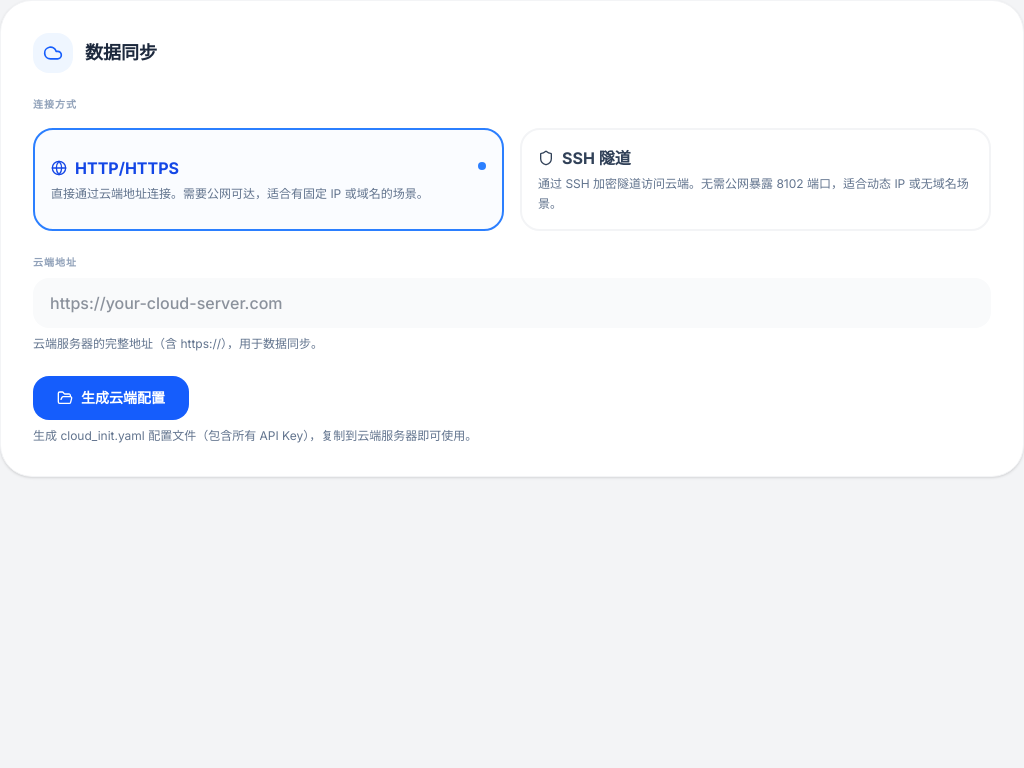
SyncConfigSection › Seam 2: 生成配置按钮 › should show loading state during generation
Click the button "生成云端配置" at (111, 398), box [33,376,189,420]
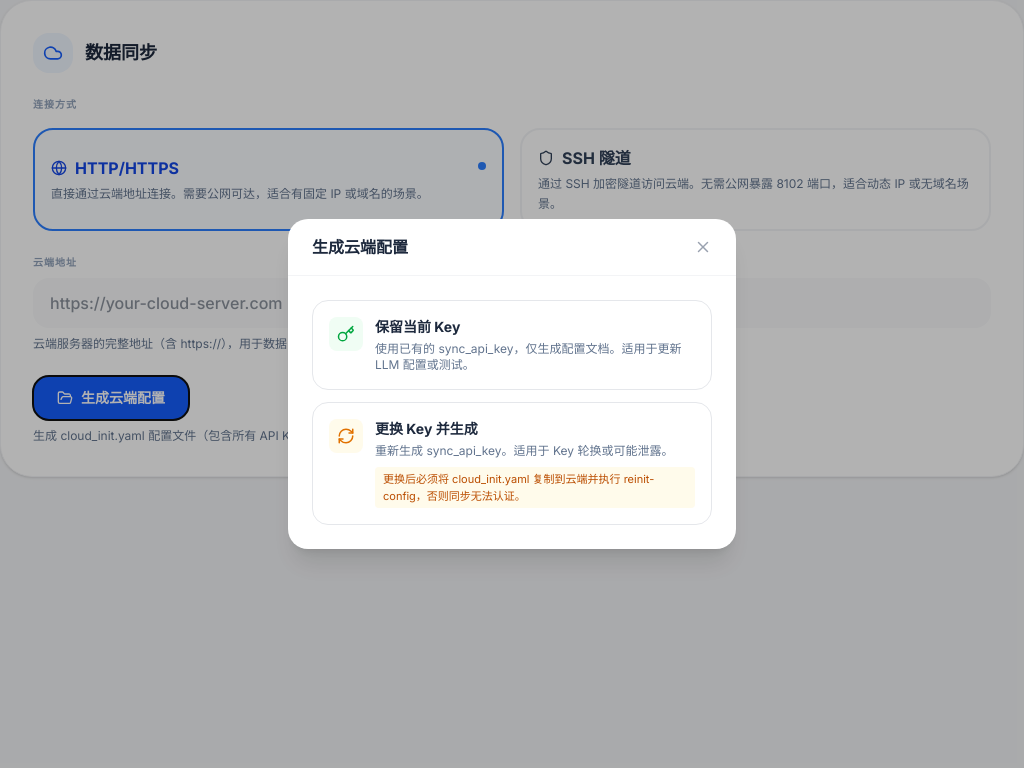
Expected: the button "保留当前 Key 使用已有的 sync_api_key，仅生成配置文档。适用于更新 LLM 配置或测试。" is shown
Click the button "保留当前 Key 使用已有的 sync_api_key，仅生成配置文档。适用于更新 LLM 配置或测试。" at (512, 345), box [312,300,712,390]
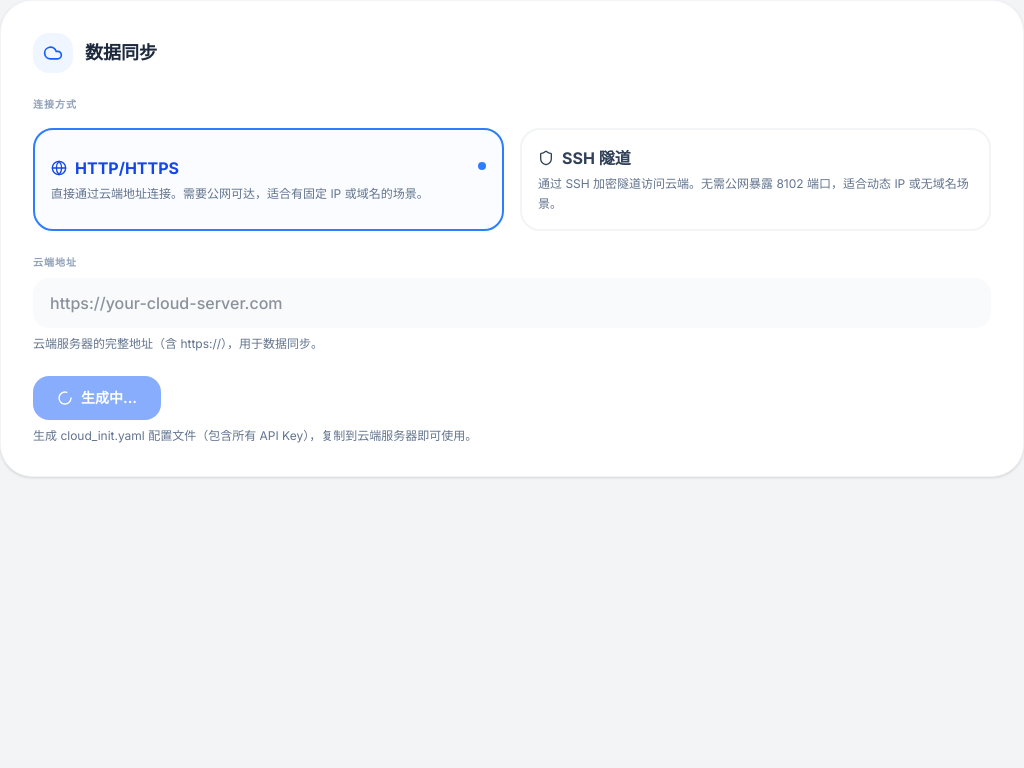
Expected: the button "生成中..." is disabled, [33,376,161,420]
